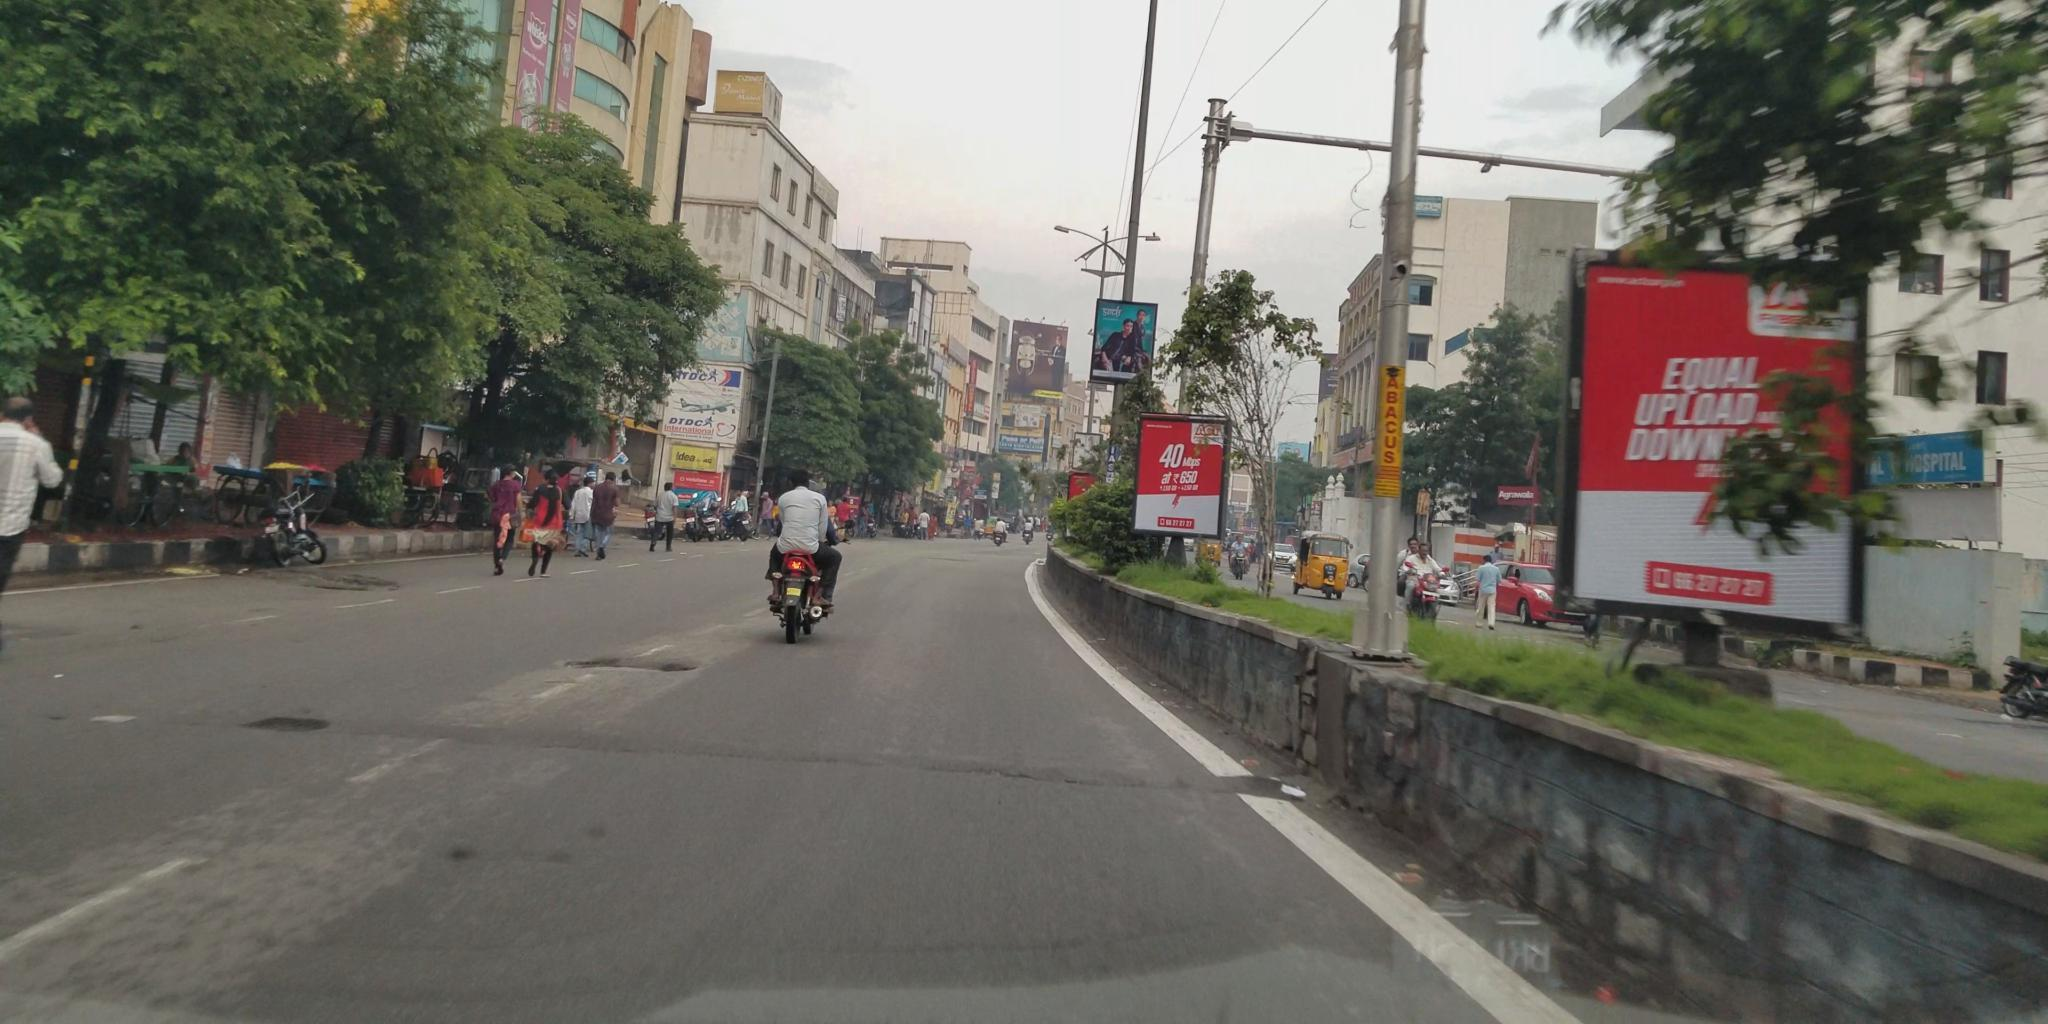off: (40, 61, 2048, 1024)
